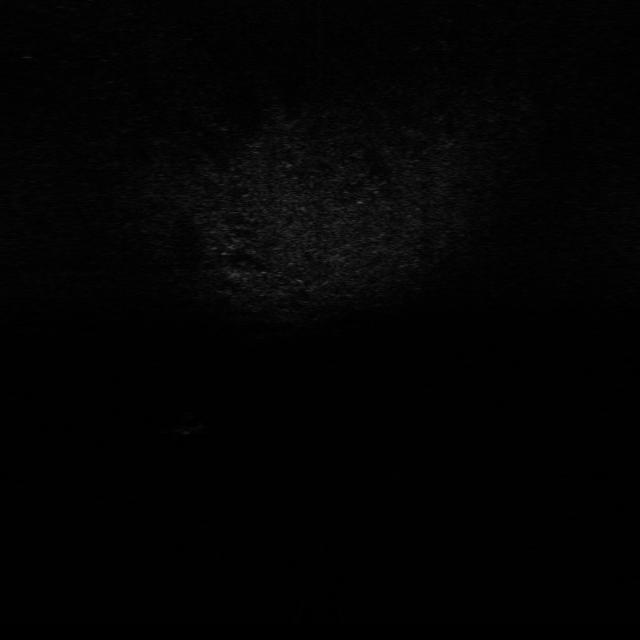ball: (163, 406, 209, 439)
